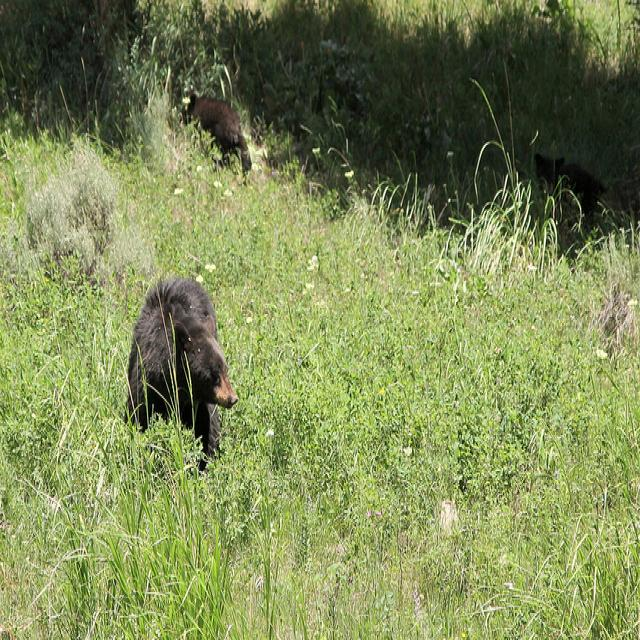Bear: (131, 265, 248, 472), (178, 84, 250, 178)
